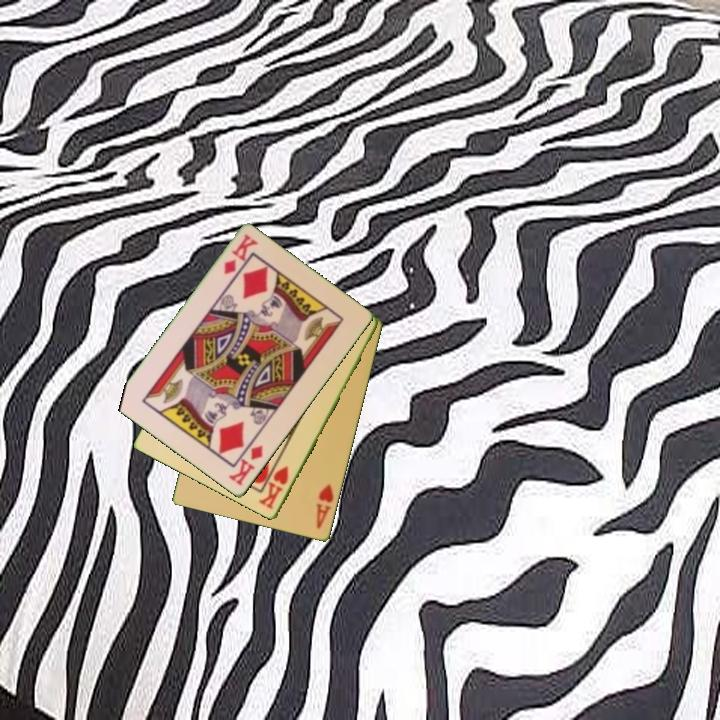Ah: (313, 480, 337, 532)
Kd: (225, 442, 266, 489), (220, 231, 260, 278)
Kh: (256, 462, 292, 512)
